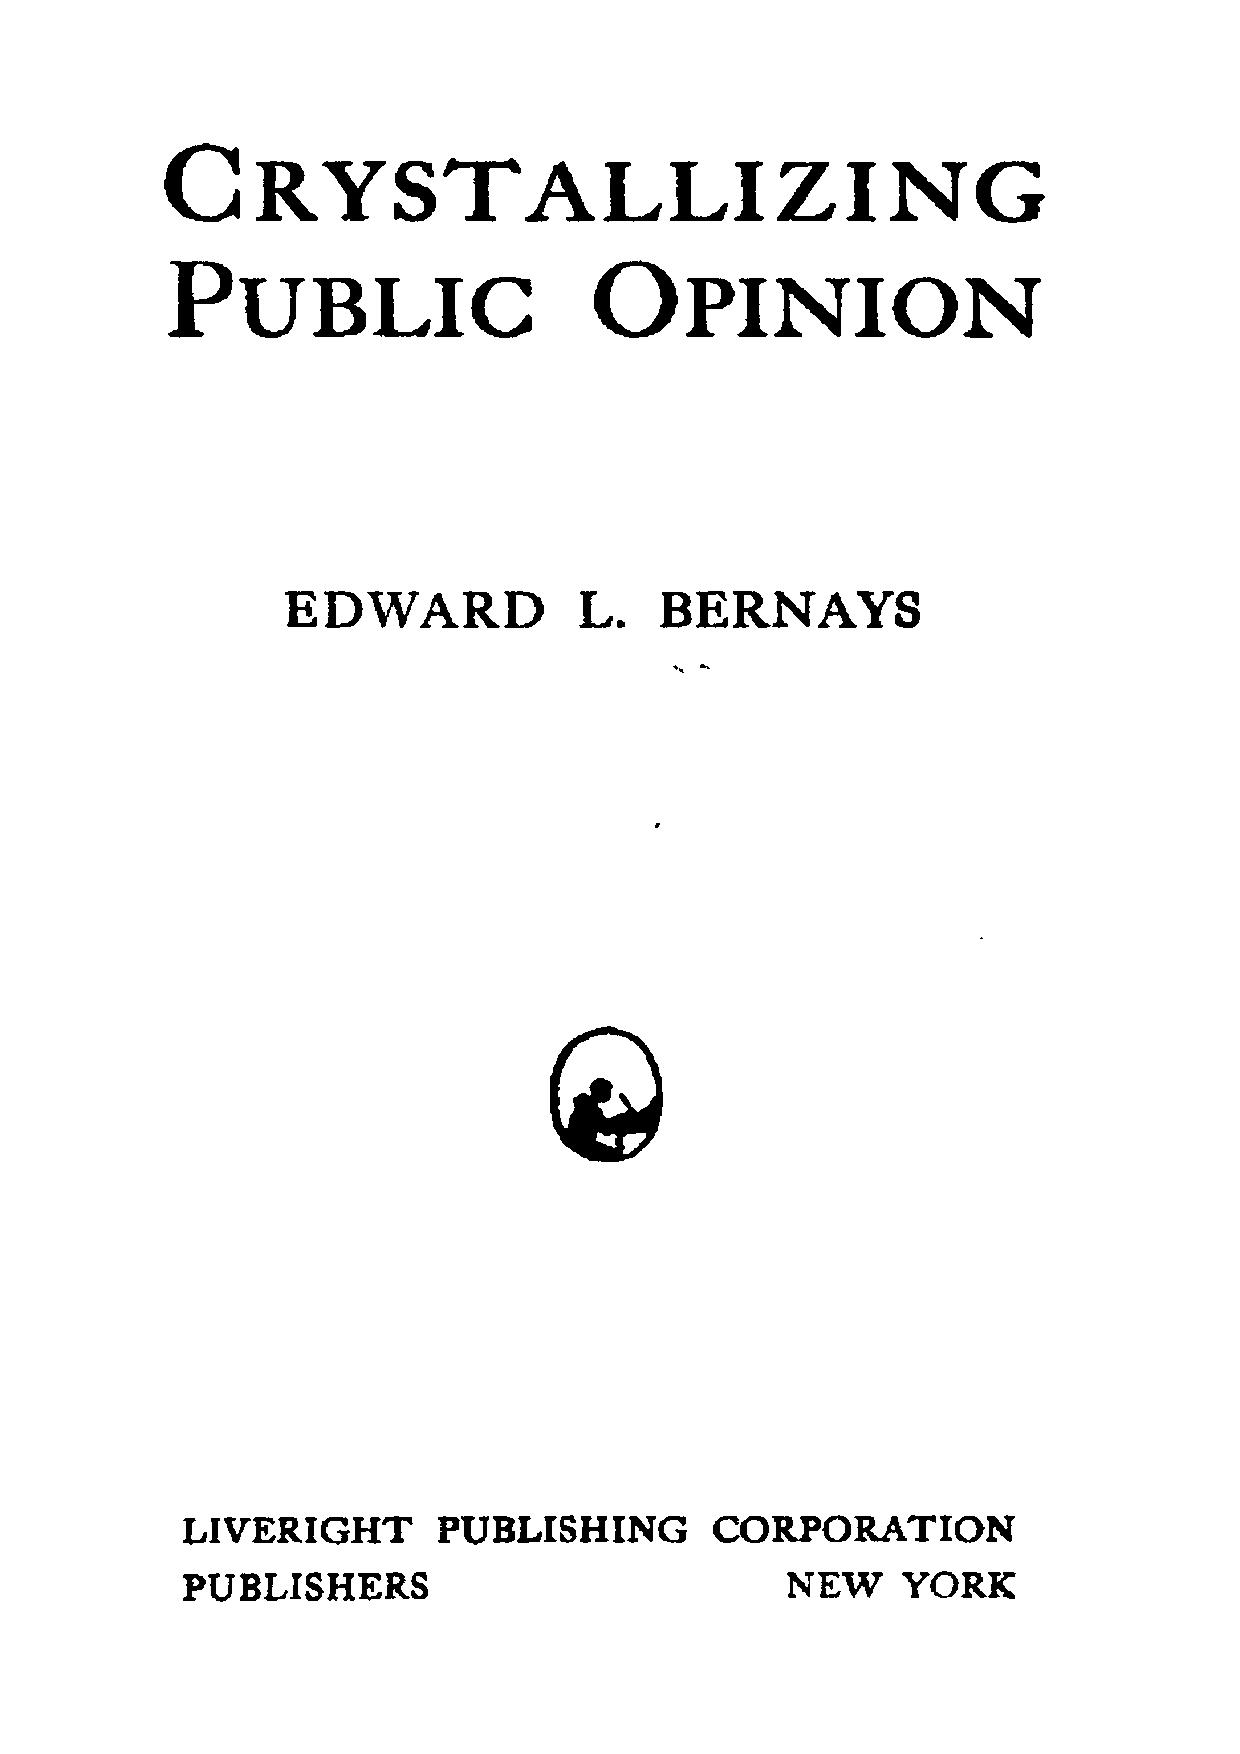author: (276, 586, 925, 632)
title: (158, 140, 1045, 341)
